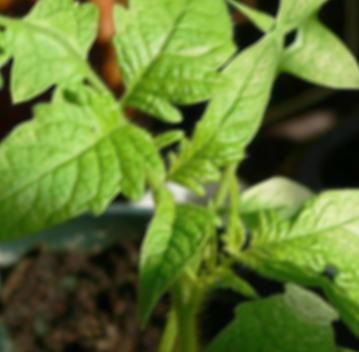Tomato leaf: (0, 45, 181, 311), (147, 12, 313, 214), (64, 0, 275, 158), (220, 121, 359, 314), (91, 179, 225, 336)
